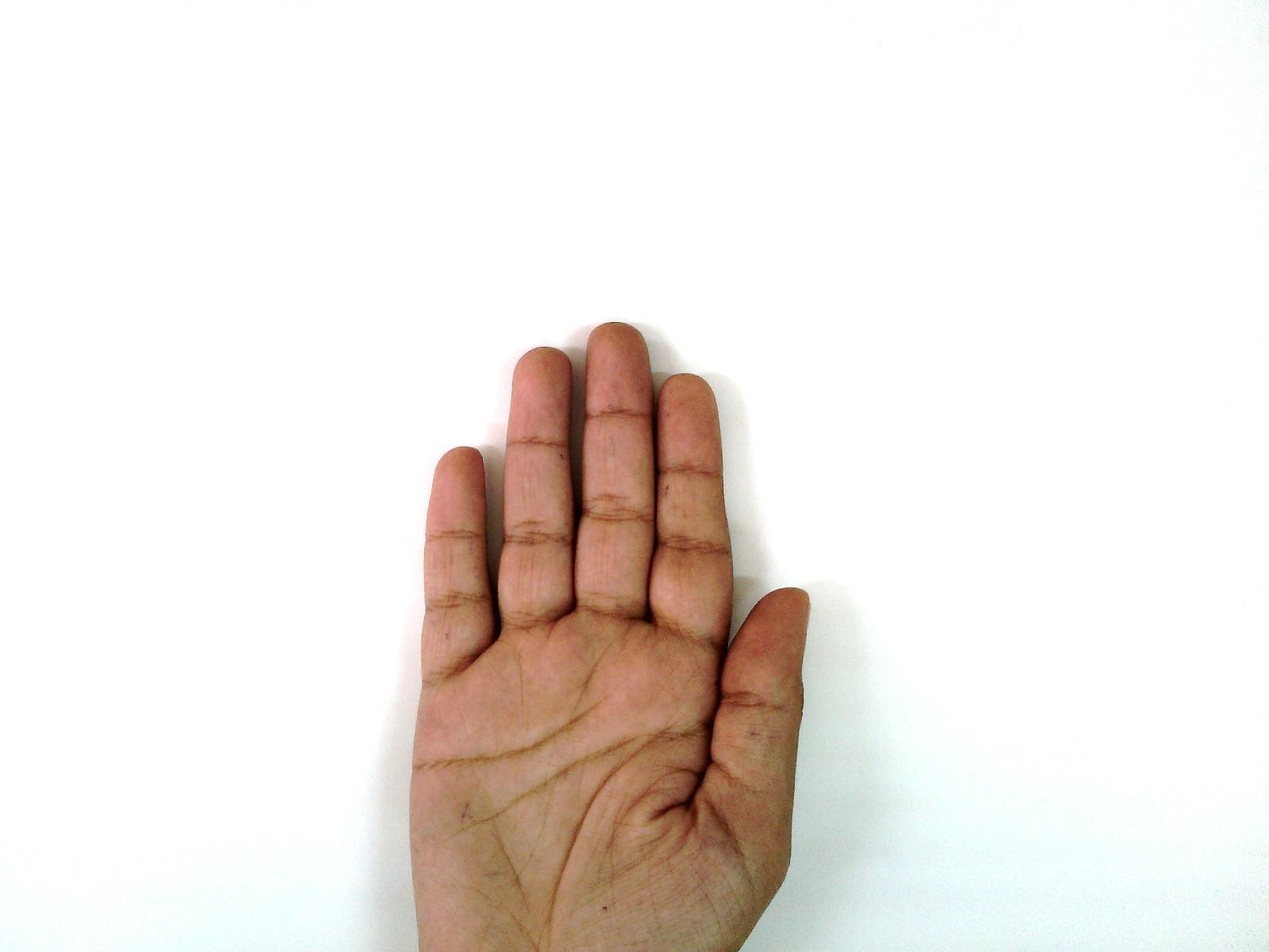open_palm: (405, 321, 814, 951)
